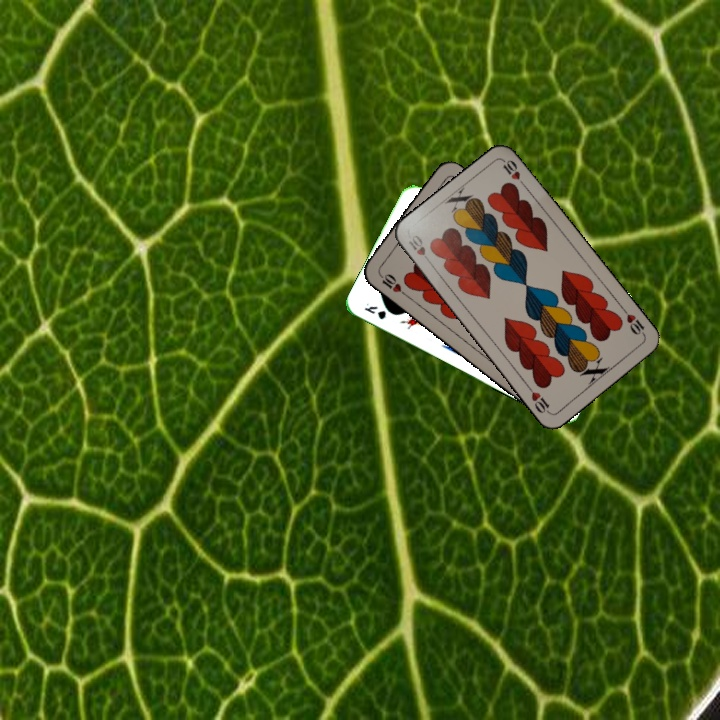GK: (360, 299, 389, 322)
H10: (404, 231, 435, 267), (375, 268, 409, 299), (618, 304, 648, 339)
